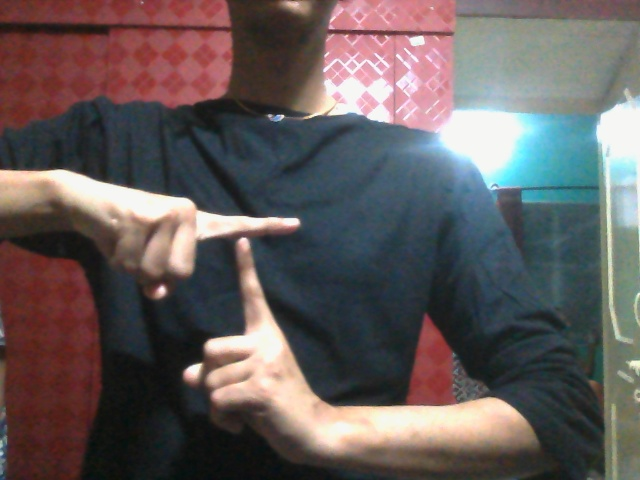T: (75, 177, 302, 464)
